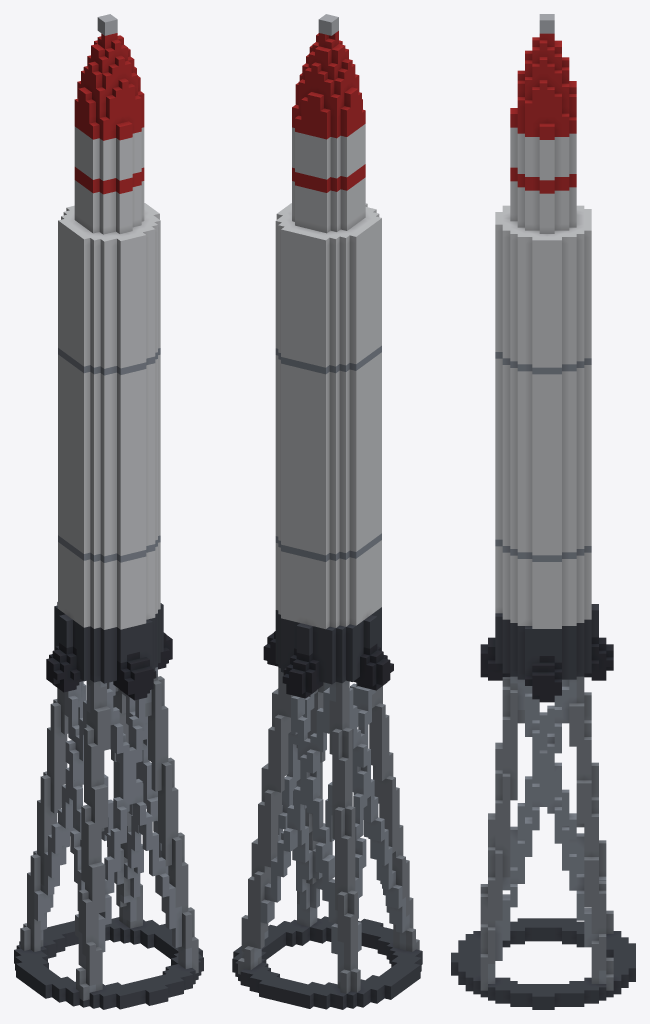
Rendered from les_tower.glb.
3 views of the same model, side by side, from view 1: azimuth 30°, elevation 25°; view 2: azimuth 150°, elevation 25°; view 3: azimuth 270°, elevation 25° (orthographic).
Parts seen in each view (by area): view 1: les_tower; view 2: les_tower; view 3: les_tower.
Part boxes in pixels (left/top/right/bottom): les_tower: left=14, top=14, right=203, bottom=1009; les_tower: left=232, top=14, right=422, bottom=1009; les_tower: left=451, top=14, right=635, bottom=1009.
Size of the model in its own units: 1.25 by 7.1 by 1.25.
